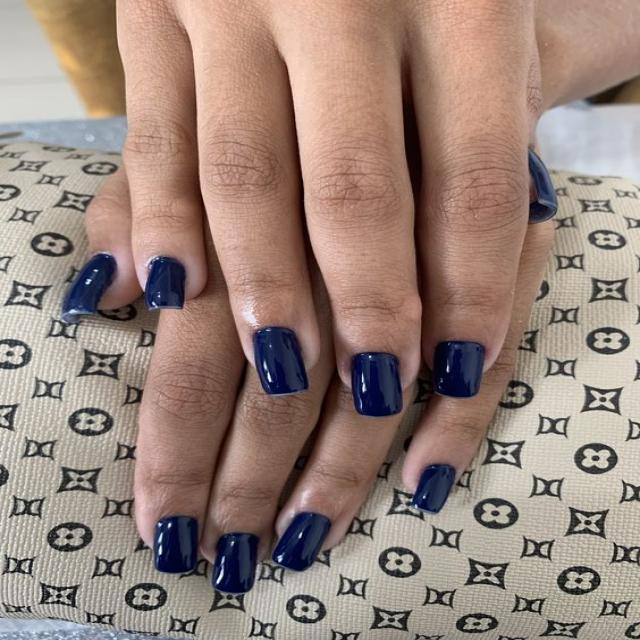Fingernail: (255, 328, 307, 395), (62, 254, 115, 316), (273, 512, 330, 569), (353, 353, 401, 416), (435, 341, 483, 398), (214, 534, 258, 593), (155, 516, 198, 573), (146, 257, 185, 309), (529, 150, 558, 219), (413, 464, 455, 511)
